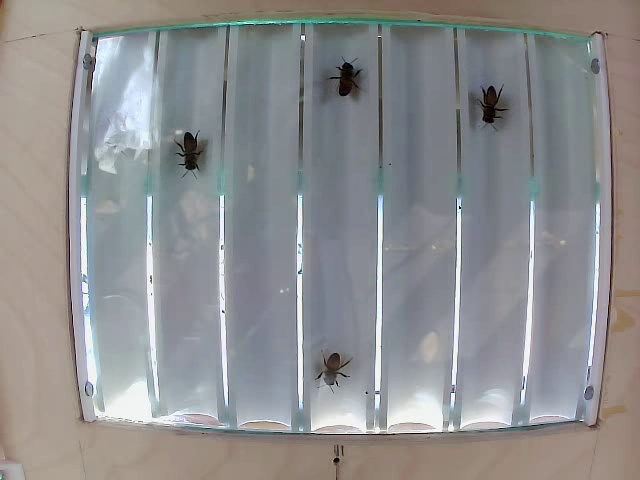bee: (312, 346, 355, 398), (170, 135, 211, 182), (477, 77, 506, 142), (331, 55, 368, 99)
